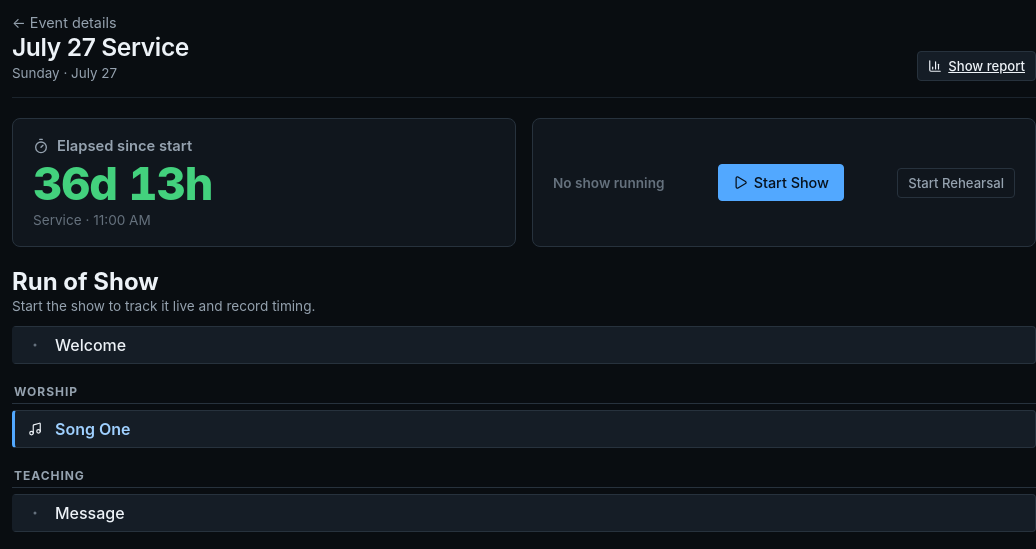
permission to operate › a failed start says why instead of looking like a dead button
This screenshot has width=1036, height=549.
Click the button "Start Show" at (781, 182), box [718,164,844,201]
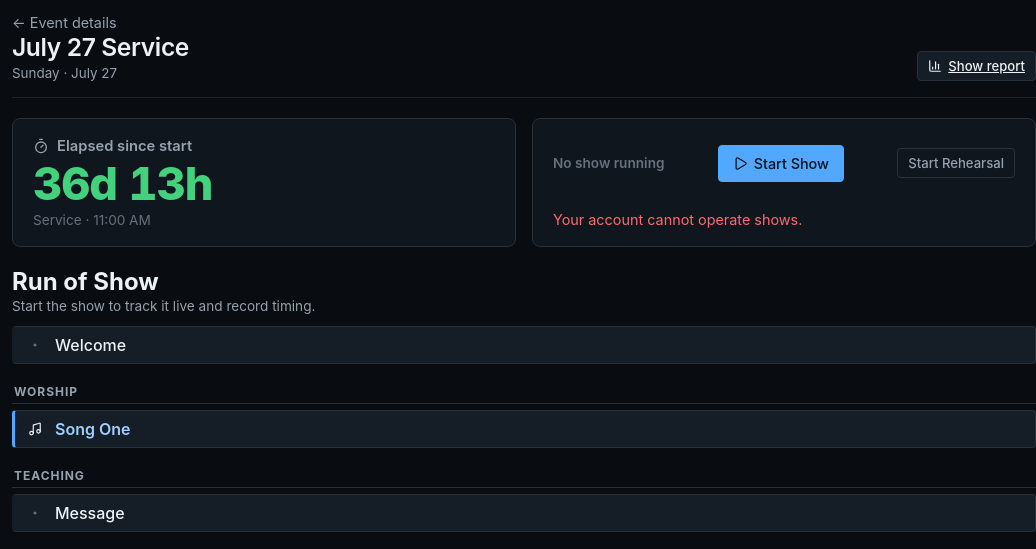
Expected: the button "Start Show" is enabled, [718,144,844,182]
Now the message reads "Your account cannot operate shows.", box [553,211,802,228]
